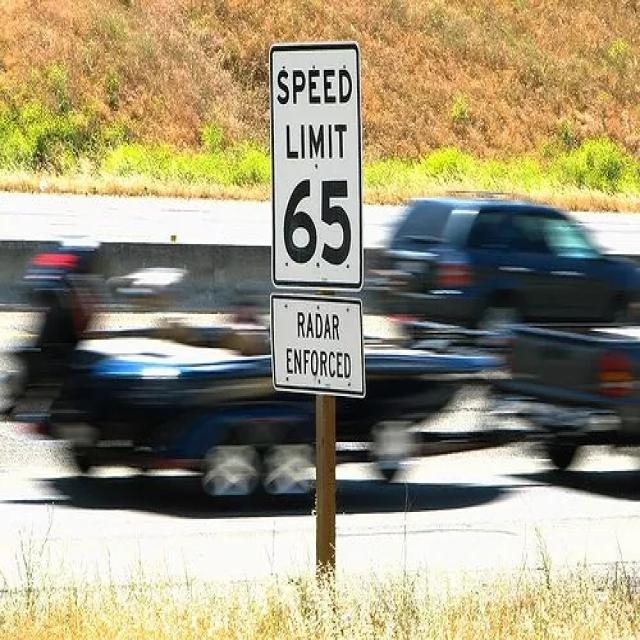Speed Limit Signs: (268, 42, 370, 297)
